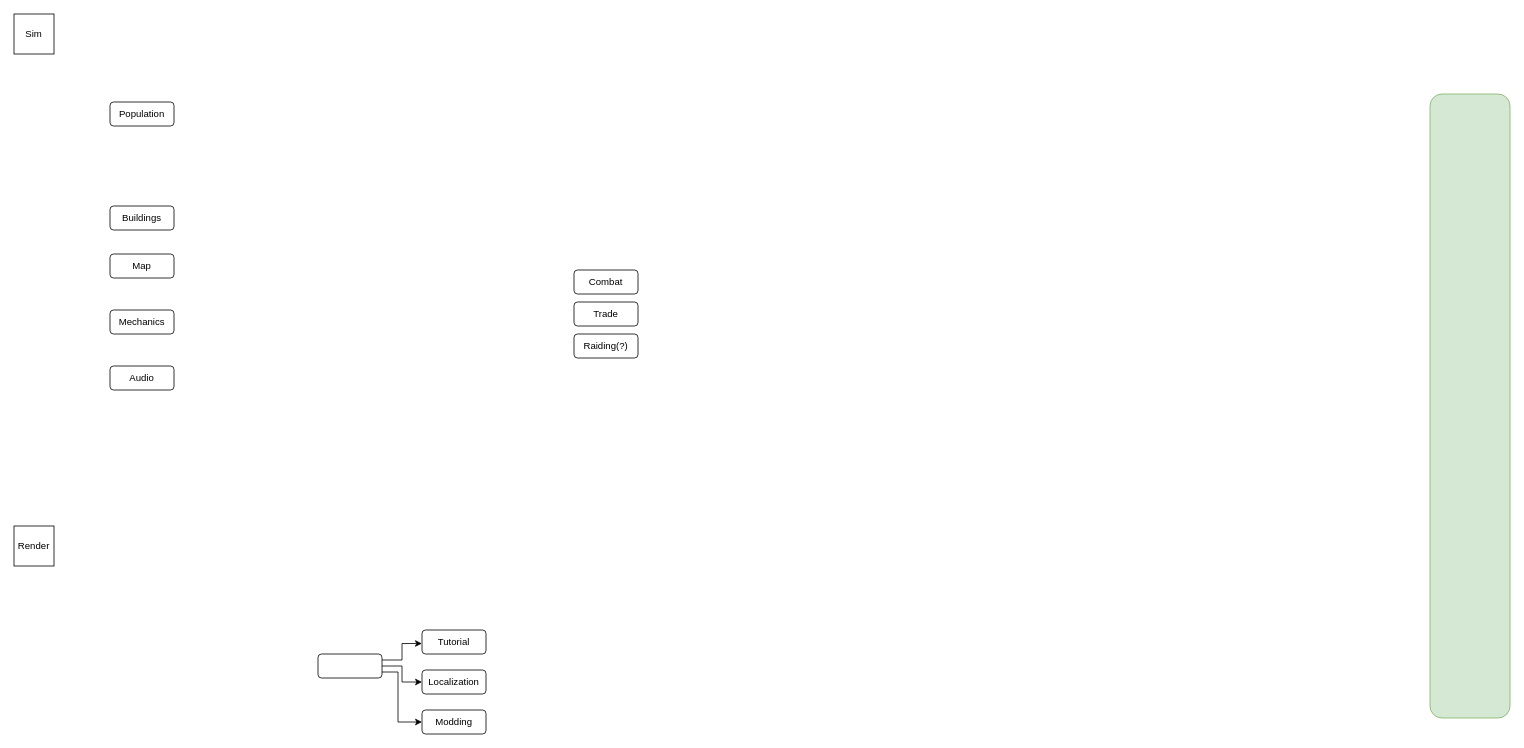
The diagram is 1524 pixels wide and 748 high, and some of its shapes have lost their labels. Each missing label, with the box of its shape:
DONE: (1429, 93, 1510, 718)
Later: (317, 653, 382, 678)
